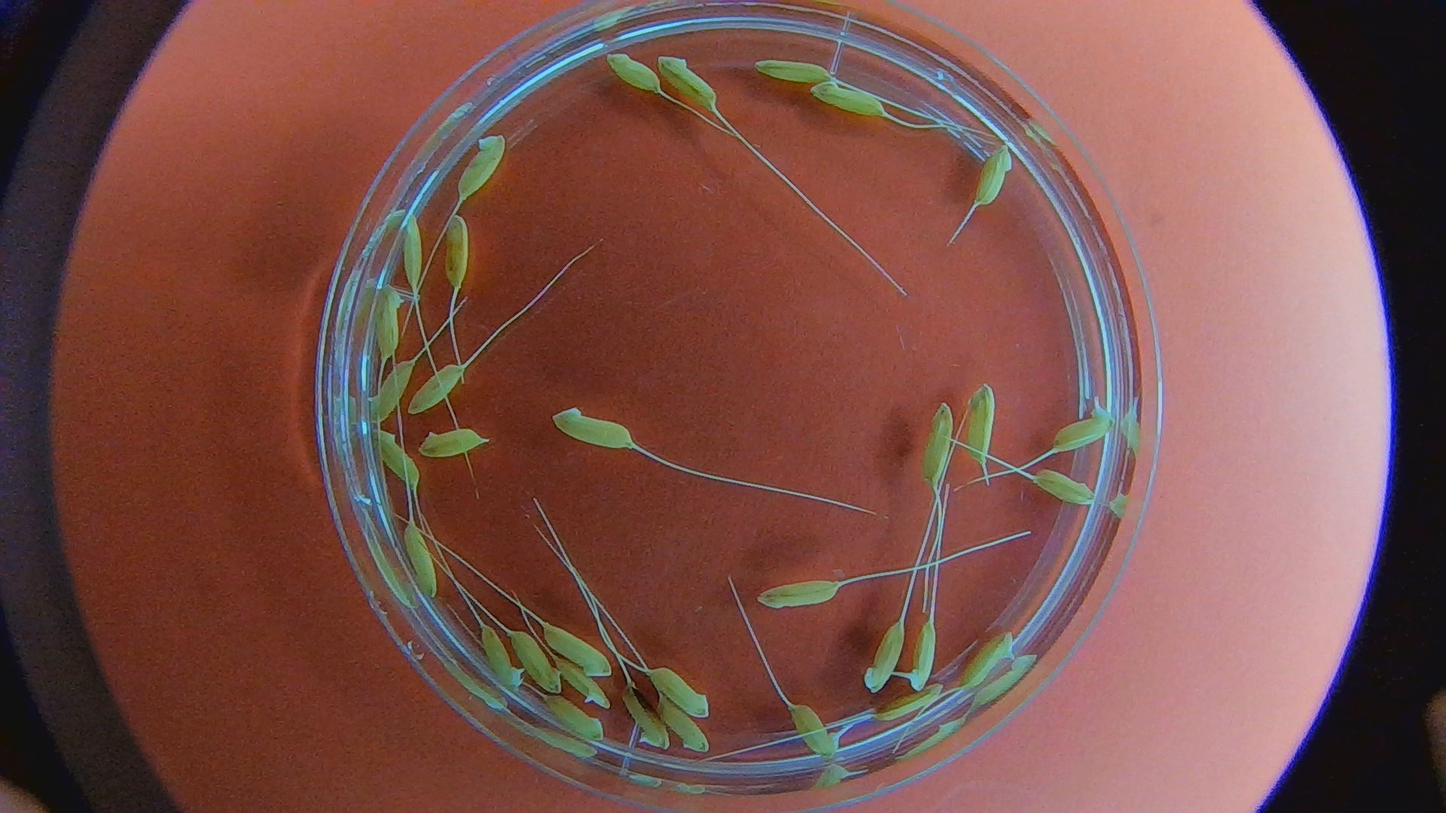no: (615, 682, 676, 762), (540, 620, 611, 681), (358, 426, 423, 492), (505, 628, 563, 698), (476, 620, 525, 701), (550, 653, 612, 714), (542, 690, 609, 746), (656, 53, 718, 112), (969, 141, 1018, 211), (453, 134, 508, 196), (655, 700, 714, 757), (365, 279, 407, 358), (649, 665, 709, 720), (960, 630, 1014, 690), (868, 684, 947, 725), (554, 408, 630, 450), (407, 363, 466, 416), (807, 82, 886, 120), (920, 402, 956, 485), (865, 618, 905, 692), (364, 358, 406, 428), (755, 577, 841, 611), (967, 381, 1002, 462), (402, 521, 438, 599), (396, 214, 429, 298), (749, 53, 830, 87), (1033, 467, 1099, 507), (414, 424, 490, 458), (602, 52, 662, 93), (443, 212, 471, 293)
yes: (787, 700, 840, 760), (1056, 407, 1113, 455), (910, 620, 939, 699)
